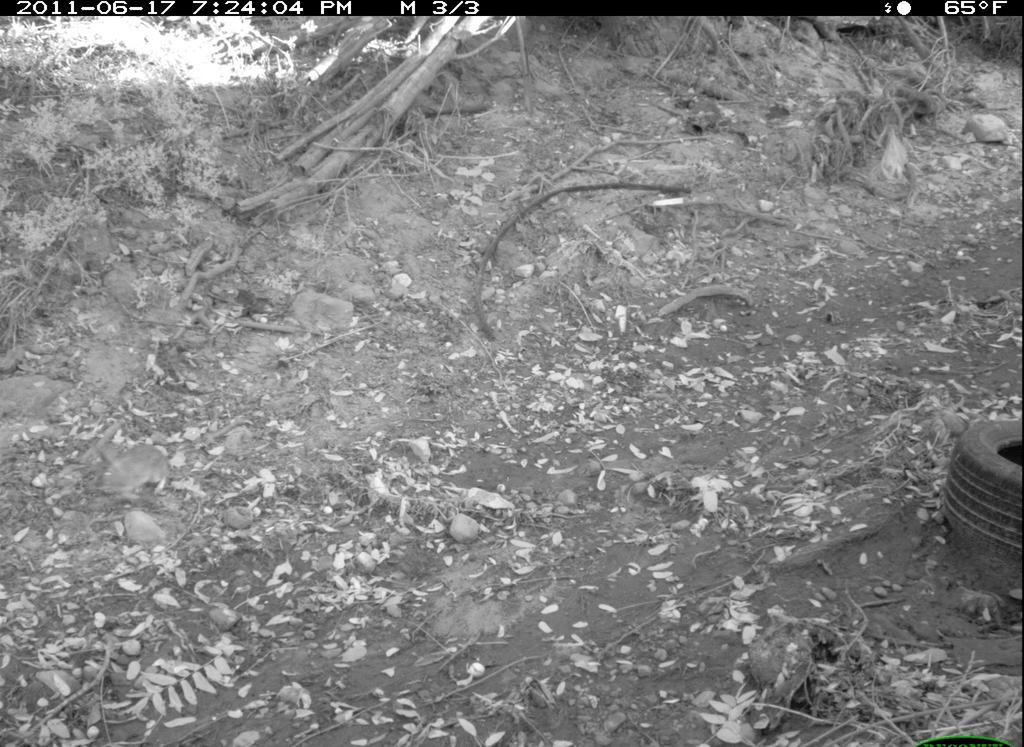rabbit: (81, 424, 185, 509)
